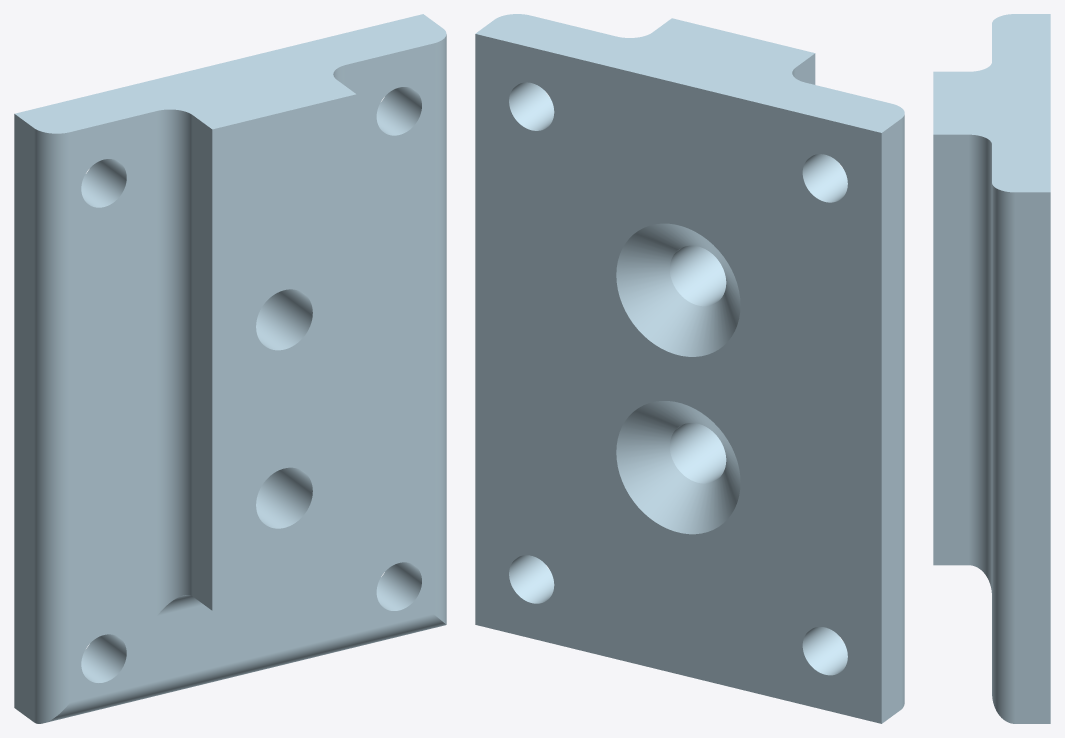
File: teststand.gltf
The picture shows the model from 3 angles, left to right: view 1: azimuth 30°, elevation 25°; view 2: azimuth 150°, elevation 25°; view 3: azimuth 270°, elevation 25°; orthographic projection. The views are drawn at different scales.
Parts seen in each view (by area): view 1: Part 1; view 2: Part 1; view 3: Part 1.
Boxes of the visible parts, x1=… form: Part 1: x1=14, y1=14, x2=446, y2=723; Part 1: x1=475, y1=14, x2=904, y2=723; Part 1: x1=933, y1=14, x2=1050, y2=723.
Bounding box in the file's own units: 0.036 × 0.05 × 0.01.
